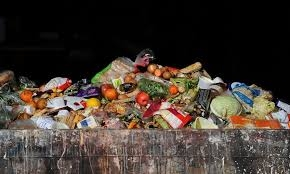kitchen_waste: (207, 92, 242, 121), (250, 96, 276, 121), (147, 62, 182, 80), (98, 84, 120, 100), (135, 89, 152, 105), (20, 88, 37, 102), (117, 81, 139, 91), (36, 96, 50, 110)
plastic: (89, 53, 141, 85), (154, 105, 195, 131)
